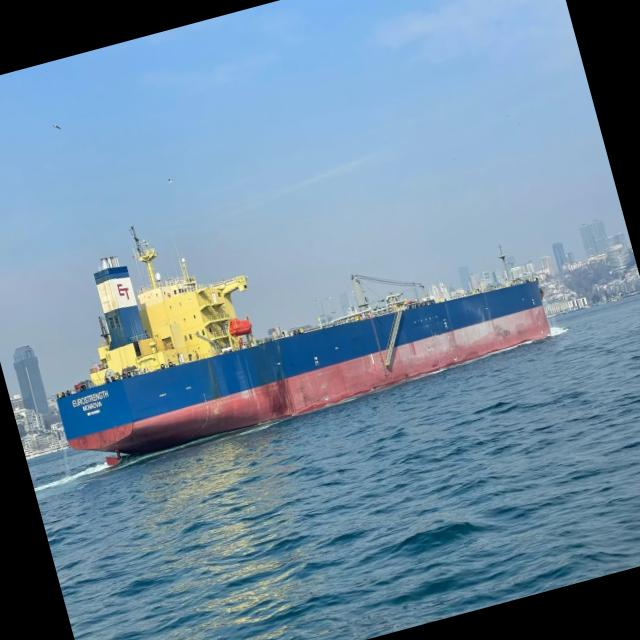Tanker: (57, 227, 549, 456)
